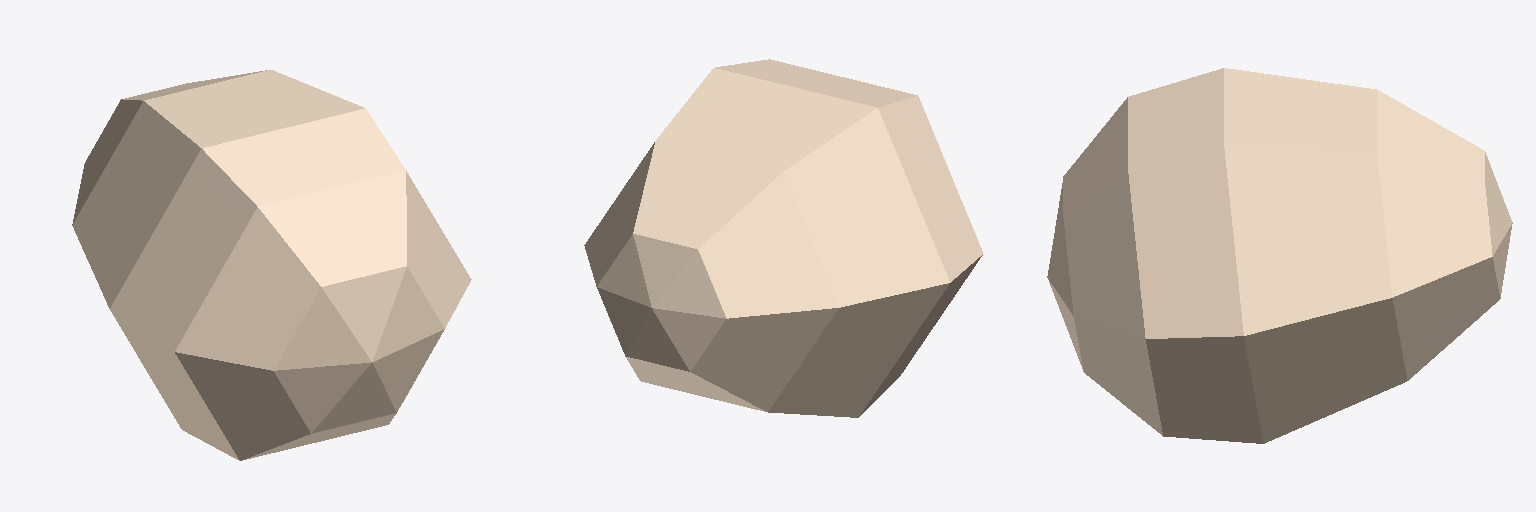
File: egg.obj
The picture shows the model from 3 angles: view 1: azimuth 30°, elevation 25°; view 2: azimuth 150°, elevation 25°; view 3: azimuth 270°, elevation 25°; orthographic projection.
Parts seen in each view (by area): view 1: pSphere1; view 2: pSphere1; view 3: pSphere1.
Boxes of the visible parts, box(x1,y1,x2,y2) form: pSphere1: box(72, 70, 471, 460); pSphere1: box(584, 59, 983, 417); pSphere1: box(1047, 68, 1512, 443).
Bounding box in the file's own units: 2.66 × 2.28 × 3.25.